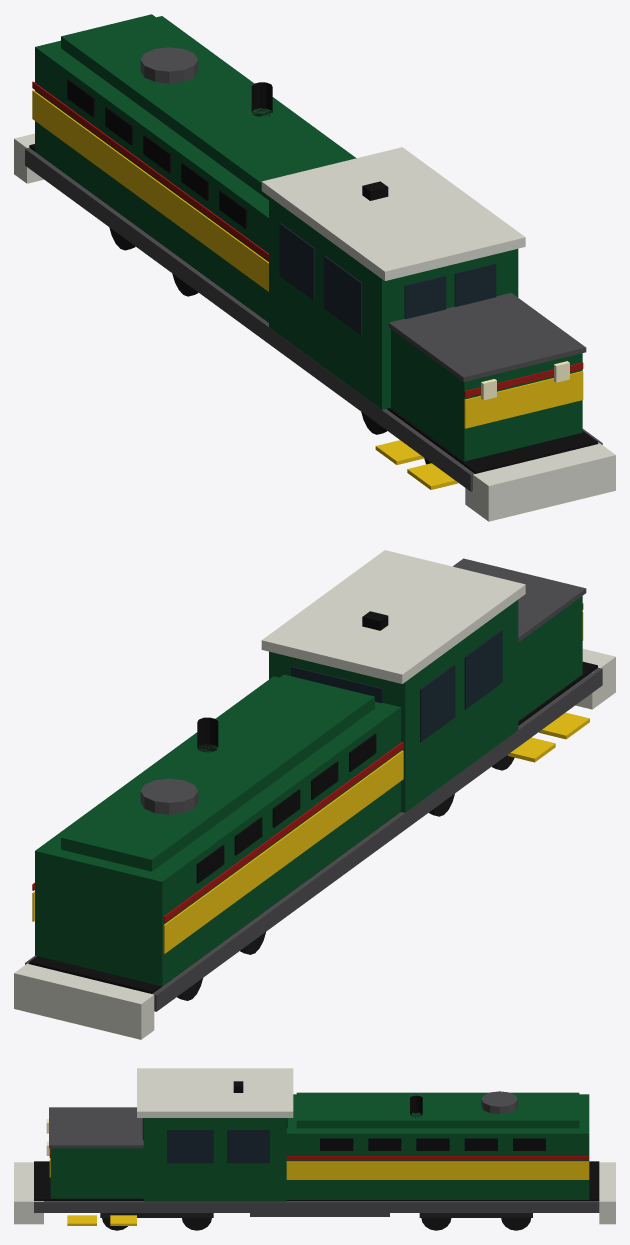
Rendered from Locomotora.obj.
The picture shows the model from 3 angles, top to bottom: view 1: azimuth 30°, elevation 25°; view 2: azimuth 150°, elevation 25°; view 3: azimuth 270°, elevation 25°; orthographic projection. The views are drawn at different scales.
Visible parts, largest first — view 1: Locomotora; view 2: Locomotora; view 3: Locomotora.
Part boxes in pixels (left/top/right/bottom): Locomotora: left=14, top=14, right=615, bottom=521; Locomotora: left=14, top=550, right=615, bottom=1039; Locomotora: left=14, top=1068, right=615, bottom=1230.
Bounding box in the file's own units: 3.5 × 4.5 × 18.1.
